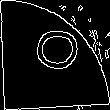O_W: (29, 32, 81, 78)
